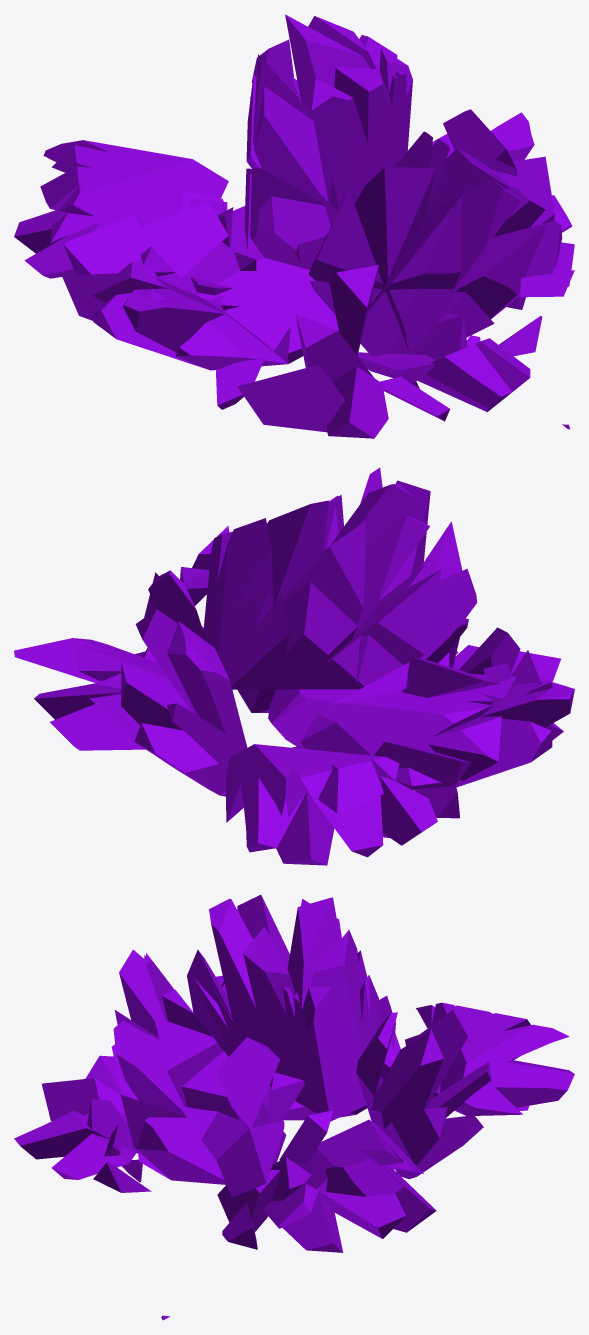
The model's file is GrindedCrystal.glb.
3 views of the same model, one above another, from view 1: azimuth 30°, elevation 25°; view 2: azimuth 150°, elevation 25°; view 3: azimuth 270°, elevation 25° (orthographic). The views are drawn at different scales.
Parts seen in each view (by area): view 1: GrindedCrystal; view 2: GrindedCrystal; view 3: GrindedCrystal.
Part boxes in pixels (x1=…): GrindedCrystal: x1=14, y1=14, x2=574, y2=438; GrindedCrystal: x1=14, y1=467, x2=574, y2=865; GrindedCrystal: x1=14, y1=894, x2=574, y2=1320.
Bounding box in the file's own units: 1.14 × 0.8532 × 1.27.
